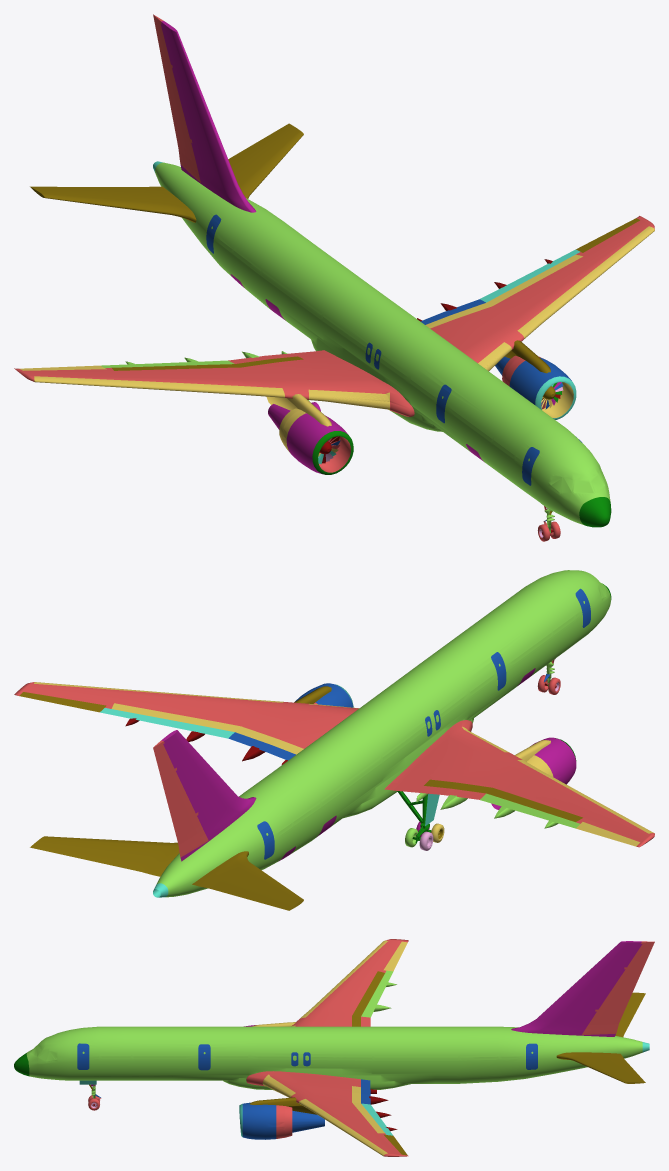
The model's file is boeing757.obj.
The picture shows the model from 3 angles, top to bottom: view 1: azimuth 30°, elevation 25°; view 2: azimuth 150°, elevation 25°; view 3: azimuth 270°, elevation 25°; orthographic projection. The views are drawn at different scales.
Visible parts, largest first — view 1: Group_081, Group_003, Component_36_001, Group_001, Group_014, Group_005, Group_29_001, Component_37_001, Group_002, Group_21_001, Group_087, Group_086 (+5 smaller); view 2: Group_081, Group_003, Component_36_001, Group_001, Group_002, Component_37_001, Group_006, Group_087, Group_086, Group_013, Group_29_001, Group_008 (+9 smaller); view 3: Group_081, Group_003, Component_36_001, Component_37_001, Group_21_001, Group_086, Group_087, Group_001, Group_005, Group_002, Group_054, Group_013 (+4 smaller).
Part boxes in pixels (box(x1,y1,x2,y2)): Group_081: box(155, 162, 610, 525); Group_003: box(14, 216, 654, 416); Component_36_001: box(160, 21, 256, 212); Group_001: box(35, 127, 303, 222); Group_014: box(34, 376, 389, 410); Group_005: box(478, 226, 654, 371); Group_29_001: box(268, 404, 348, 474); Component_37_001: box(153, 14, 200, 182); Group_002: box(30, 123, 294, 194); Group_21_001: box(495, 356, 571, 404); Group_087: box(211, 226, 529, 461); Group_086: box(206, 214, 582, 485); Group_081: box(156, 570, 610, 897); Group_003: box(14, 682, 654, 847); Component_36_001: box(161, 730, 256, 861); Group_001: box(36, 836, 303, 907); Group_002: box(30, 842, 294, 910); Component_37_001: box(153, 740, 208, 857); Group_006: box(111, 703, 303, 754); Group_087: box(266, 601, 584, 835); Group_086: box(257, 588, 590, 859); Group_013: box(424, 779, 582, 822); Group_29_001: box(491, 737, 576, 809); Group_008: box(100, 708, 234, 738); Group_081: box(26, 1026, 642, 1090); Group_003: box(246, 939, 408, 1156); Component_36_001: box(511, 941, 642, 1036); Component_37_001: box(582, 941, 654, 1034); Group_21_001: box(242, 1102, 324, 1139); Group_086: box(77, 1043, 537, 1070); Group_087: box(82, 1051, 533, 1060); Group_001: box(556, 992, 637, 1083); Group_005: box(262, 1074, 387, 1156); Group_002: box(601, 992, 645, 1083); Group_054: box(276, 1105, 292, 1138); Group_013: box(352, 971, 384, 1026).
Size of the model in its own units: 923 by 332 by 1158.
